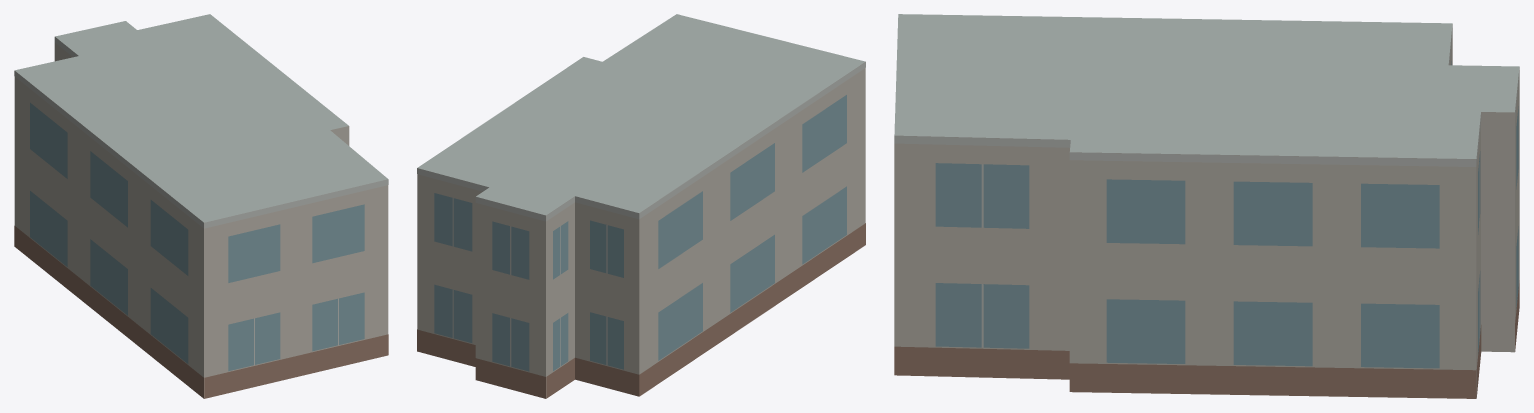
The model's file is survey-upis-32762966.glb.
The picture shows the model from 3 angles, left to right: view 1: azimuth 30°, elevation 25°; view 2: azimuth 150°, elevation 25°; view 3: azimuth 270°, elevation 25°; orthographic projection. The views are drawn at different scales.
Visible parts, largest first — view 1: survey-upis-32762966.tmp; view 2: survey-upis-32762966.tmp; view 3: survey-upis-32762966.tmp.
Part boxes in pixels (x1,y1,x2,y2): survey-upis-32762966.tmp: (14,14,388,398); survey-upis-32762966.tmp: (417,14,865,398); survey-upis-32762966.tmp: (894,14,1519,398).
Size of the model in its own units: 9.49 by 7.3 by 17.26.
